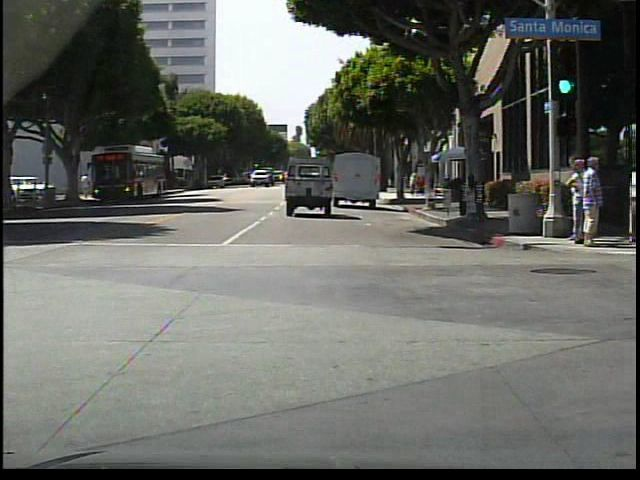person: (573, 154, 609, 254), (567, 151, 588, 247), (568, 157, 588, 245), (81, 171, 91, 201), (409, 171, 418, 196), (71, 176, 80, 201), (404, 170, 410, 197)
